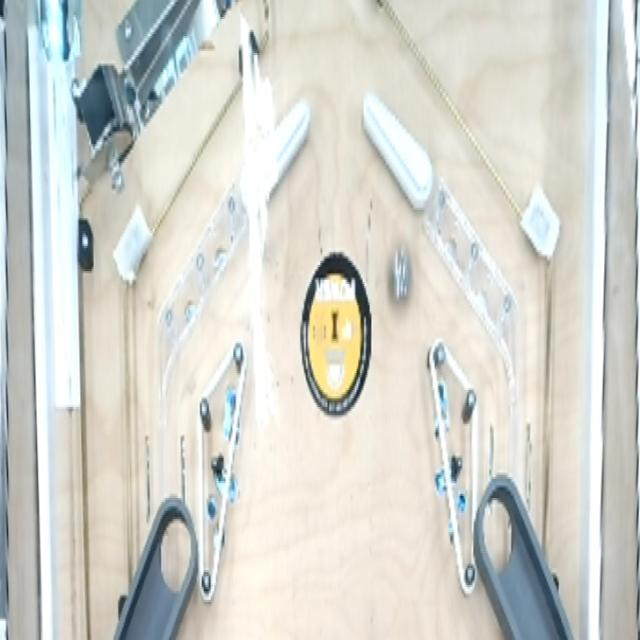ball: (382, 234, 419, 314)
flipper-left: (360, 87, 440, 214)
flipper-right: (236, 82, 318, 226)
